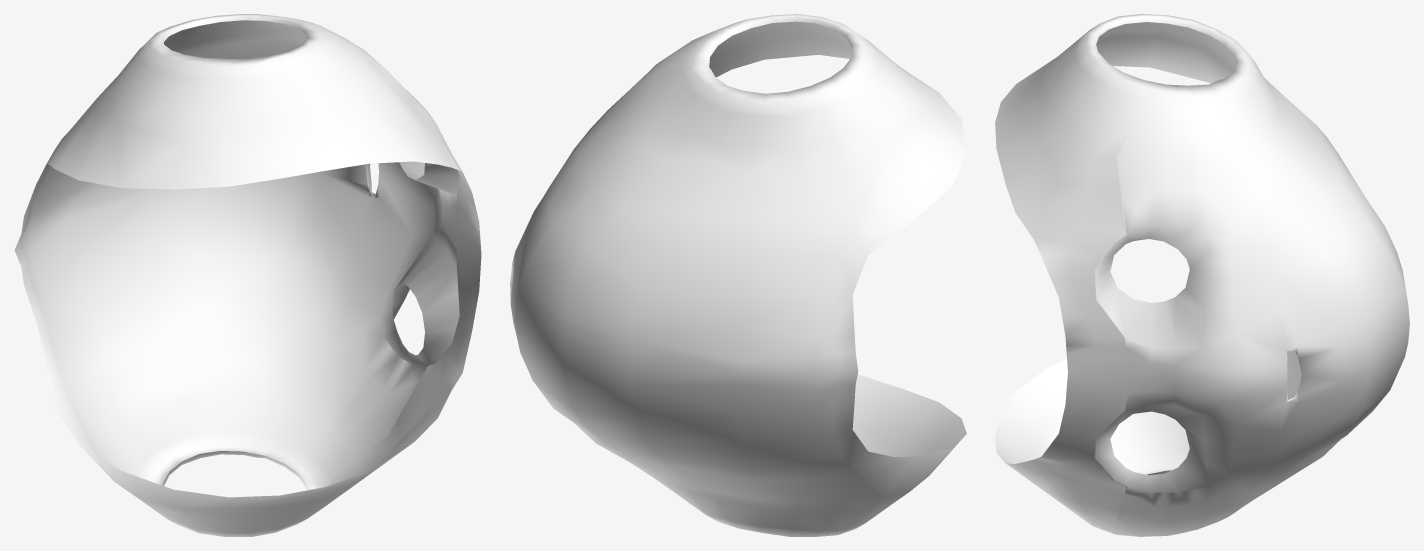
Rendered from HeadPitch_face_shiny.obj.
The picture shows the model from 3 angles, left to right: view 1: azimuth 30°, elevation 25°; view 2: azimuth 150°, elevation 25°; view 3: azimuth 270°, elevation 25°; orthographic projection.
Size of the model in its own units: 1.87 by 2.16 by 1.73.
1 material, 1 textured.
